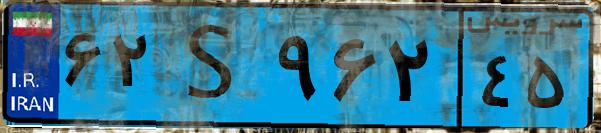2: (385, 28, 445, 110), (110, 28, 158, 98)
4: (475, 38, 525, 113)
5: (525, 38, 570, 115)
6: (330, 28, 385, 110), (57, 26, 110, 100)
9: (270, 28, 330, 110)
S: (158, 12, 270, 120)
